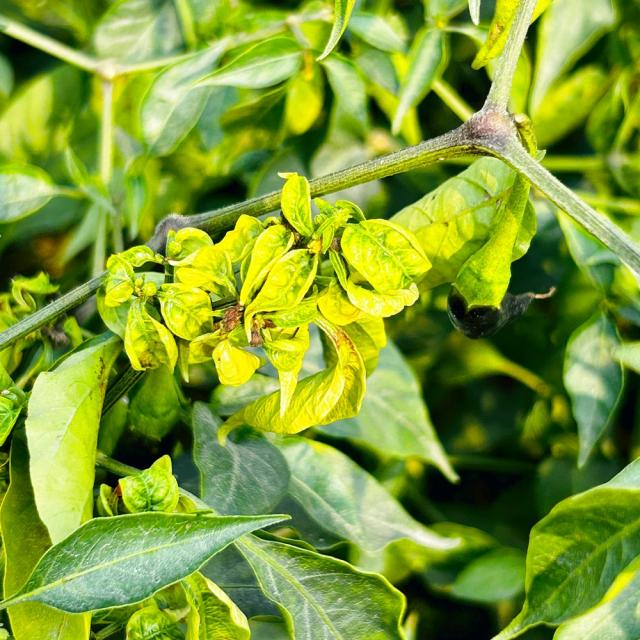Chilli_Leaf_Curl: (1, 1, 638, 638), (98, 170, 433, 446), (1, 508, 292, 615), (387, 149, 540, 332), (489, 455, 638, 639), (338, 216, 432, 295)
